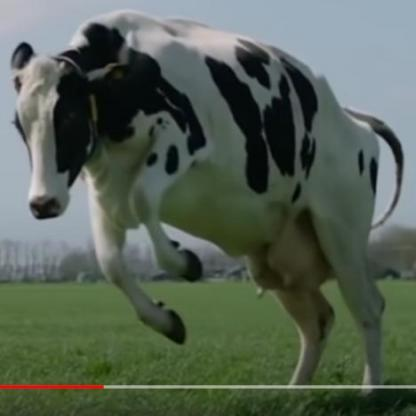cow: (10, 10, 403, 391)
